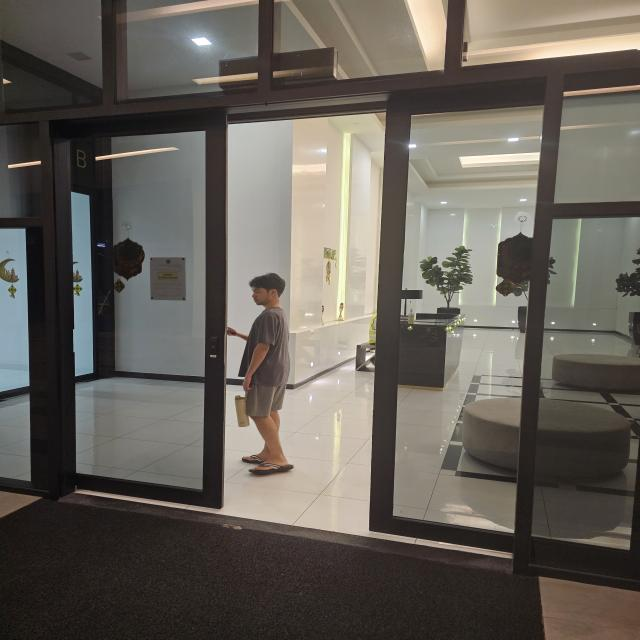door: (0, 92, 233, 506), (368, 82, 556, 548)
footpath: (0, 509, 495, 640)
obstacle: (459, 395, 635, 484), (396, 311, 468, 392), (418, 244, 475, 318)
person: (220, 264, 323, 479)
